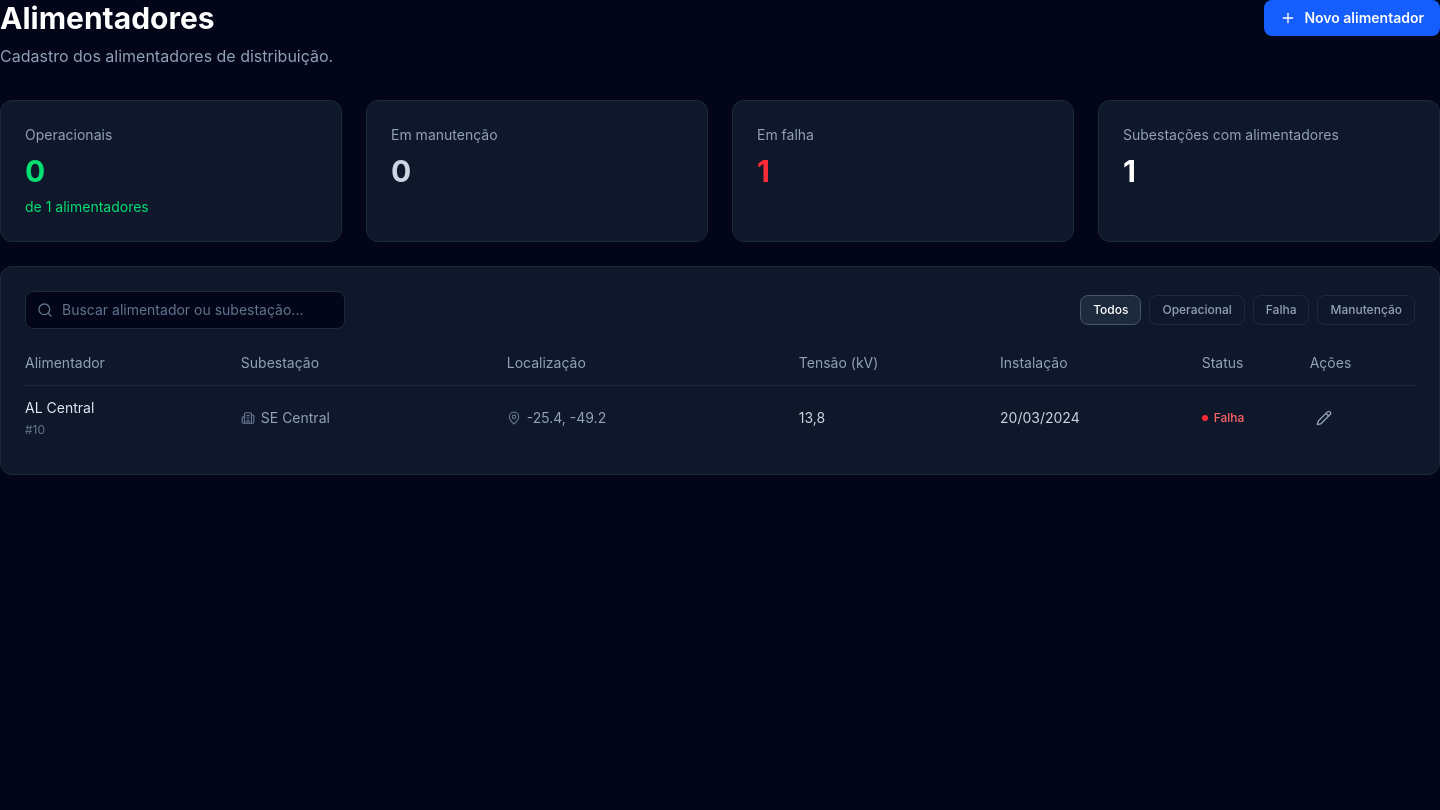
cadastro › exige subestacao e demais campos
Click the button "Novo alimentador" at point(1352, 18), box 1264,0 -> 1439,36
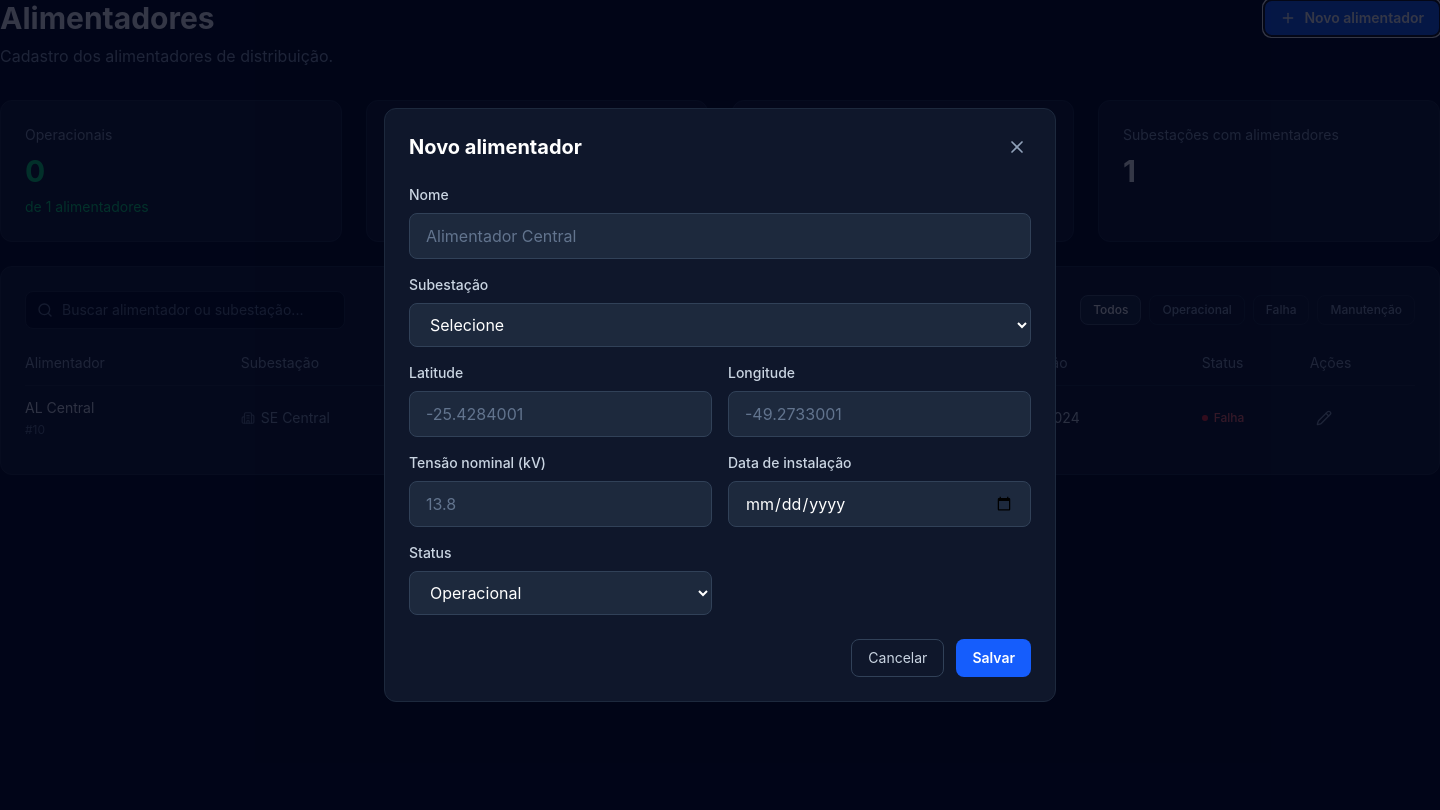
Click the button "Salvar" at point(994, 658), box 956,639 -> 1031,677
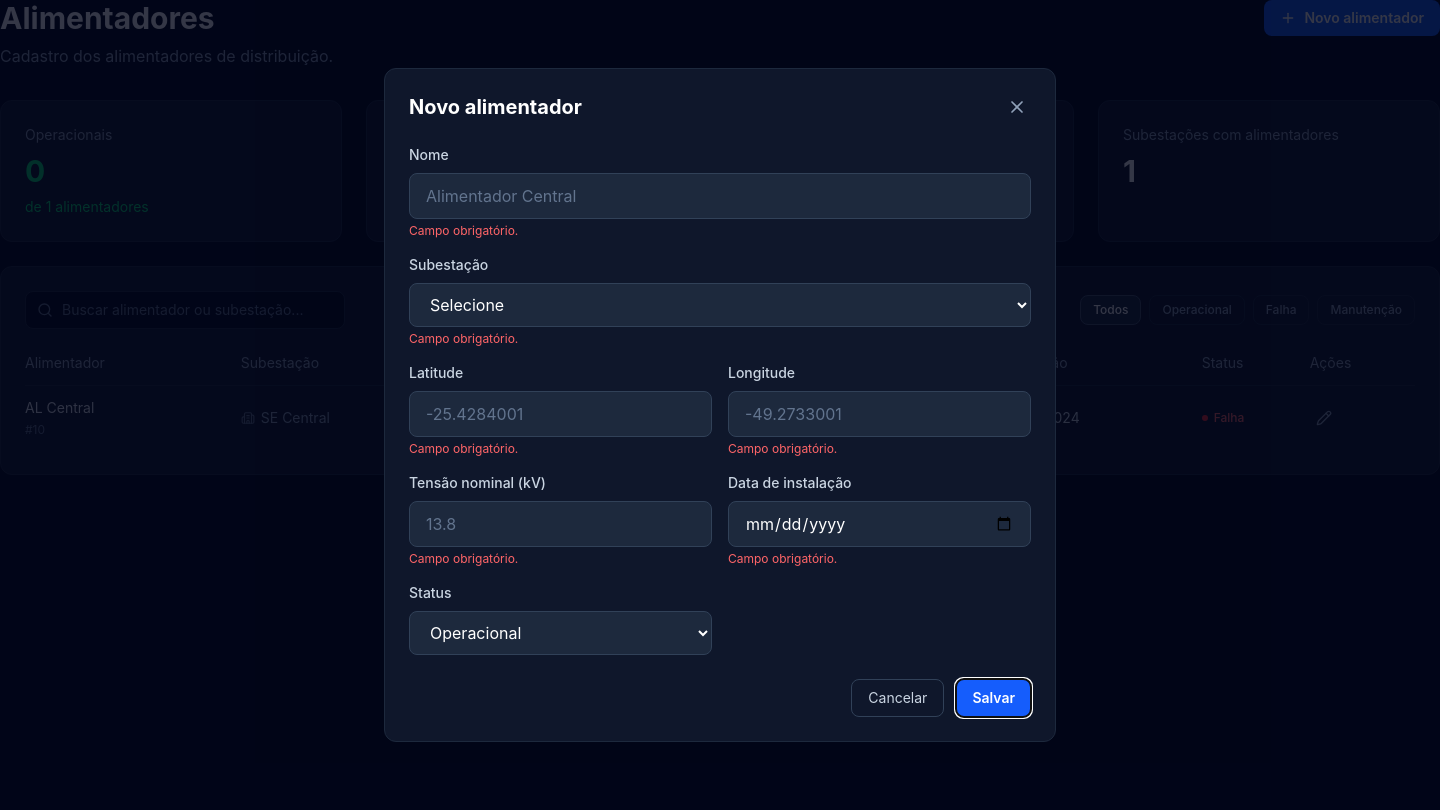
Check: the text "Campo obrigatório." is shown 6 times, box 409,223 -> 518,238; 409,331 -> 518,346; 409,441 -> 518,456; 728,441 -> 837,456; 409,551 -> 518,566; 728,551 -> 837,566
